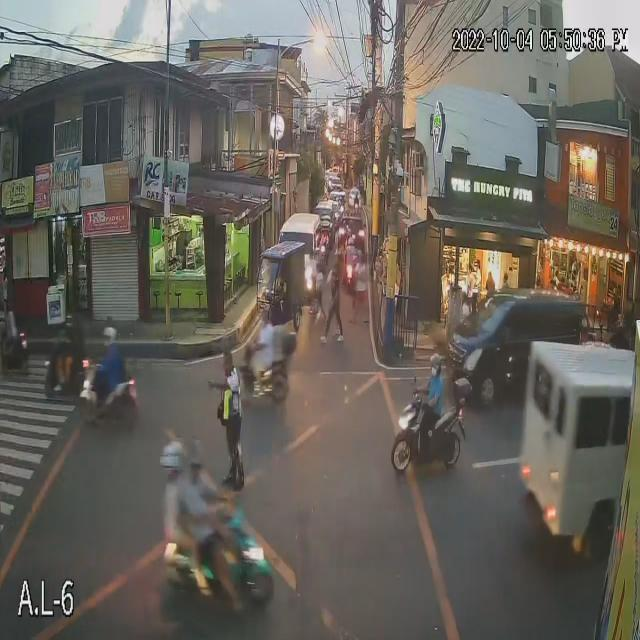helmet: (180, 435, 222, 484), (152, 432, 190, 482), (250, 306, 285, 342), (419, 350, 453, 386), (98, 327, 128, 351), (62, 318, 84, 344), (0, 298, 17, 318)
motorcycle: (143, 505, 287, 621), (380, 398, 470, 482), (77, 356, 152, 442), (234, 339, 305, 412), (38, 342, 98, 404), (0, 332, 37, 378)
rider: (186, 474, 244, 589), (159, 478, 196, 568), (410, 375, 454, 450), (95, 344, 137, 412), (250, 323, 287, 388), (54, 330, 84, 390), (0, 314, 22, 364)
